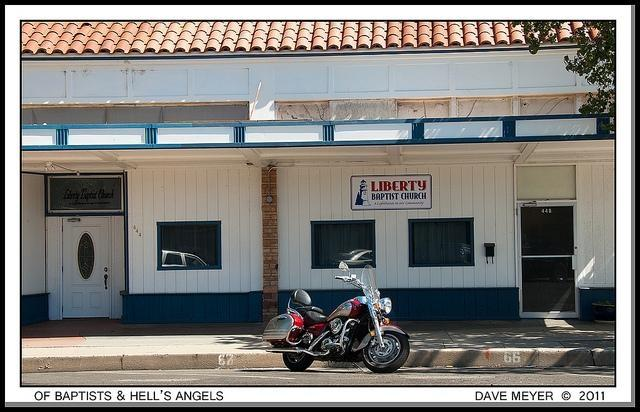car: (162, 250, 210, 268)
motorcycle: (262, 260, 412, 373)
